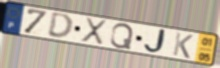7: (24, 7, 49, 35)
D: (46, 12, 75, 41)
J: (142, 28, 170, 55)
K: (171, 31, 195, 60)
Q: (109, 23, 136, 51)
X: (80, 17, 108, 48)
